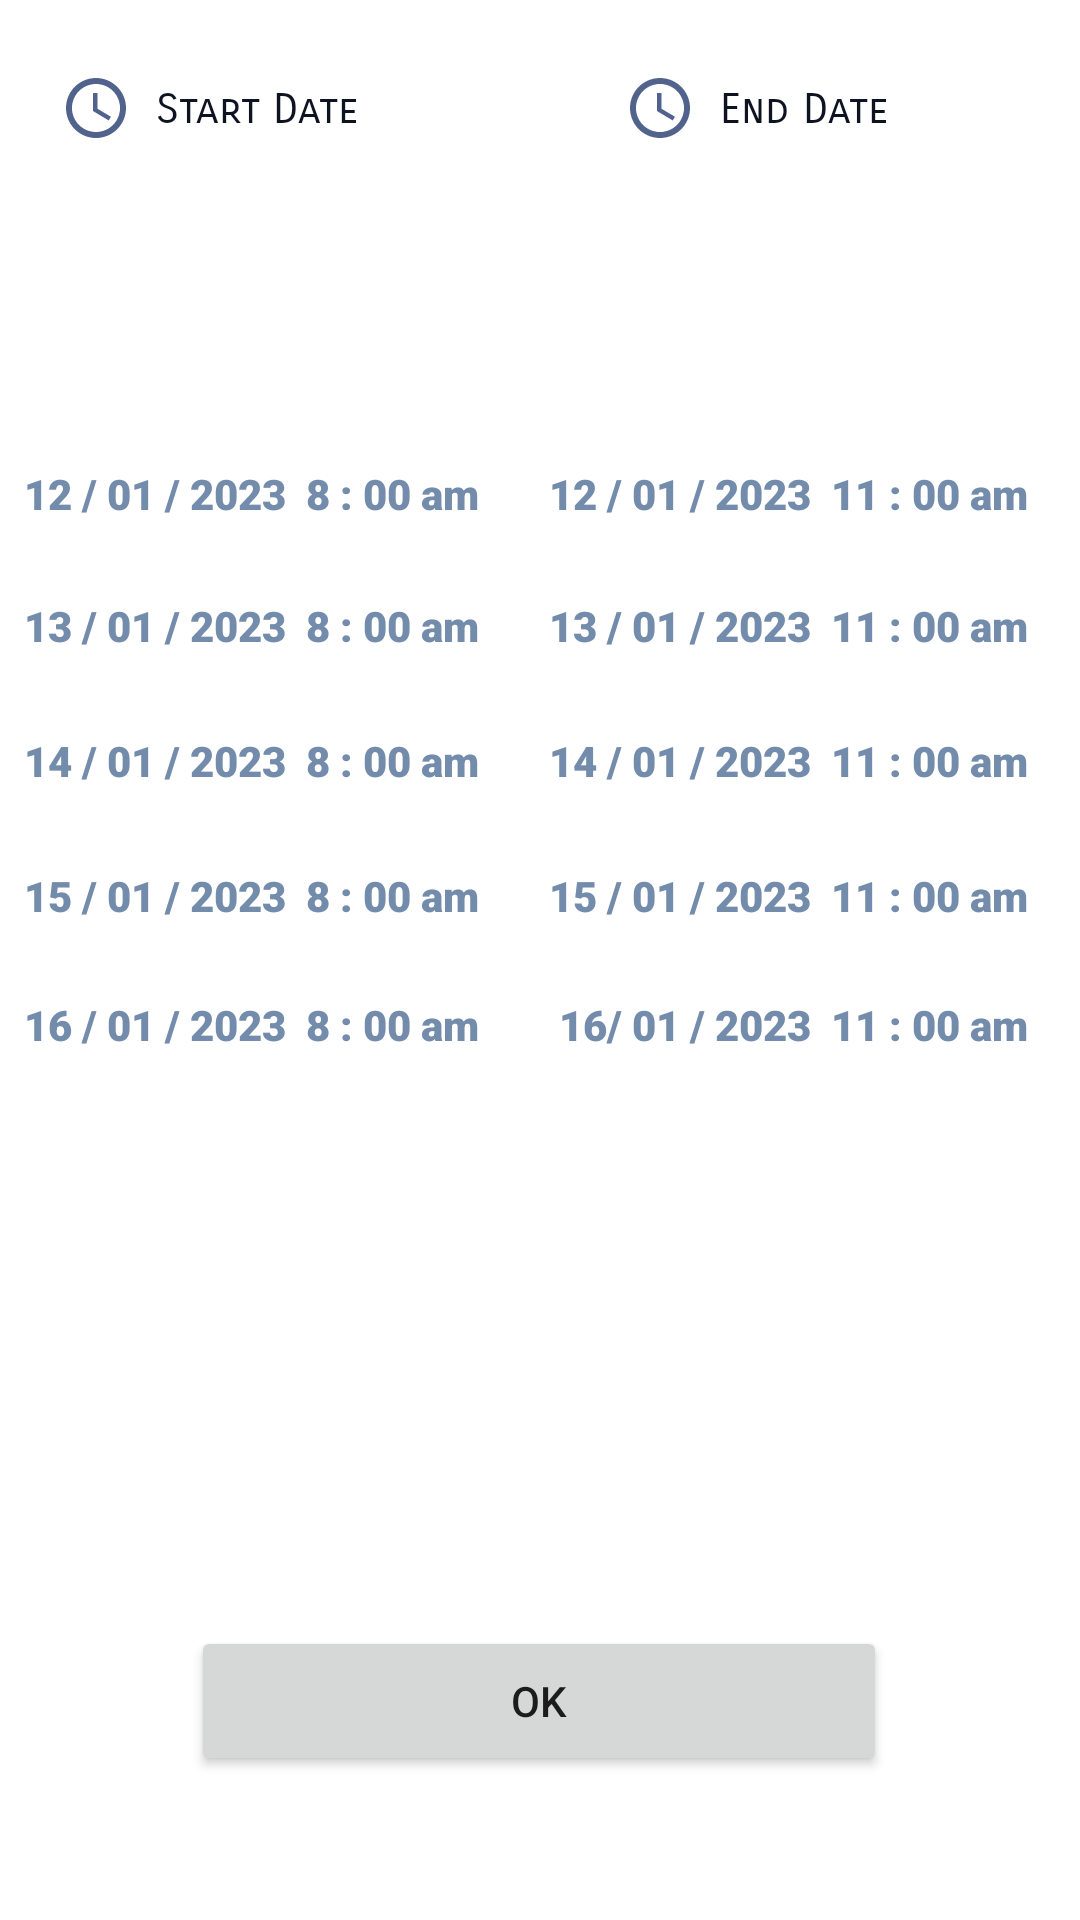

Icon bounding boxes for this 1080px×1920px phone screenshot, format (x1, y1, x2, y2):
access time: (66, 78, 126, 138), (630, 78, 690, 138)
